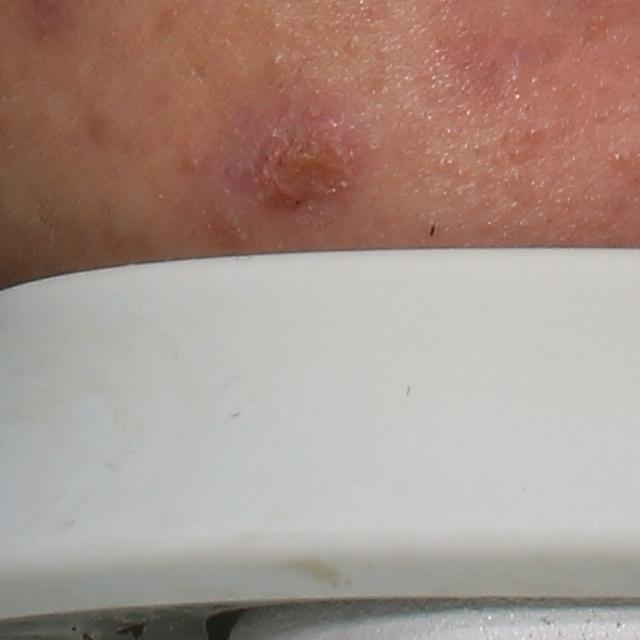nodule: (199, 86, 382, 252)
